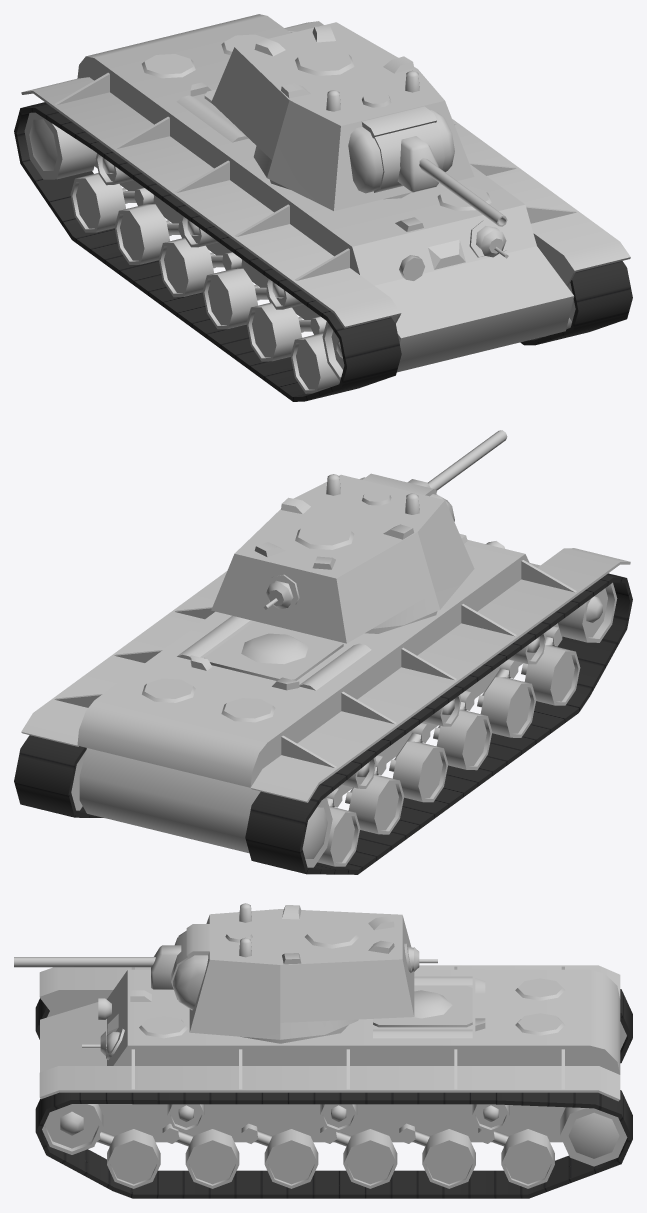
File: Simple_KV-I.fbx
The picture shows the model from 3 angles, top to bottom: view 1: azimuth 30°, elevation 25°; view 2: azimuth 150°, elevation 25°; view 3: azimuth 270°, elevation 25°; orthographic projection. The views are drawn at different scales.
Parts seen in each view (by area): view 1: Simple_KV-I_Body, Simple_KV-I_Turret, Simple_KV-I_StaticWheels_R, Simple_KV-I_TrackBelt_R, Simple_KV-I_TrackBelt_L, Simple_KV-I_Cannon, Simple_KV-I_Barrel; view 2: Simple_KV-I_Body, Simple_KV-I_Turret, Simple_KV-I_StaticWheels_R, Simple_KV-I_TrackBelt_R, Simple_KV-I_TrackBelt_L, Simple_KV-I_Barrel; view 3: Simple_KV-I_Body, Simple_KV-I_Turret, Simple_KV-I_StaticWheels_L, Simple_KV-I_TrackBelt_L, Simple_KV-I_Barrel, Simple_KV-I_Cannon, Simple_KV-I_TrackBelt_R.
Part boxes in pixels (x1,y1,x2,y2): Simple_KV-I_Body: (21, 14, 630, 372); Simple_KV-I_Turret: (211, 22, 474, 210); Simple_KV-I_StaticWheels_R: (24, 112, 344, 393); Simple_KV-I_TrackBelt_R: (14, 102, 401, 401); Simple_KV-I_TrackBelt_L: (520, 261, 632, 345); Simple_KV-I_Cannon: (374, 122, 444, 192); Simple_KV-I_Barrel: (419, 158, 507, 226); Simple_KV-I_Body: (21, 534, 630, 852); Simple_KV-I_Turret: (211, 473, 474, 643); Simple_KV-I_StaticWheels_R: (302, 582, 617, 867); Simple_KV-I_TrackBelt_R: (245, 573, 632, 874); Simple_KV-I_TrackBelt_L: (14, 735, 103, 817); Simple_KV-I_Barrel: (427, 430, 507, 490); Simple_KV-I_Body: (39, 965, 620, 1142); Simple_KV-I_Turret: (173, 903, 437, 1039); Simple_KV-I_StaticWheels_L: (42, 1104, 627, 1188); Simple_KV-I_TrackBelt_L: (35, 1090, 632, 1198); Simple_KV-I_Barrel: (14, 957, 155, 967); Simple_KV-I_Cannon: (151, 932, 188, 999); Simple_KV-I_TrackBelt_R: (35, 989, 632, 1063).
Size of what is drawn, in the model's own units: 330 by 265 by 691.
